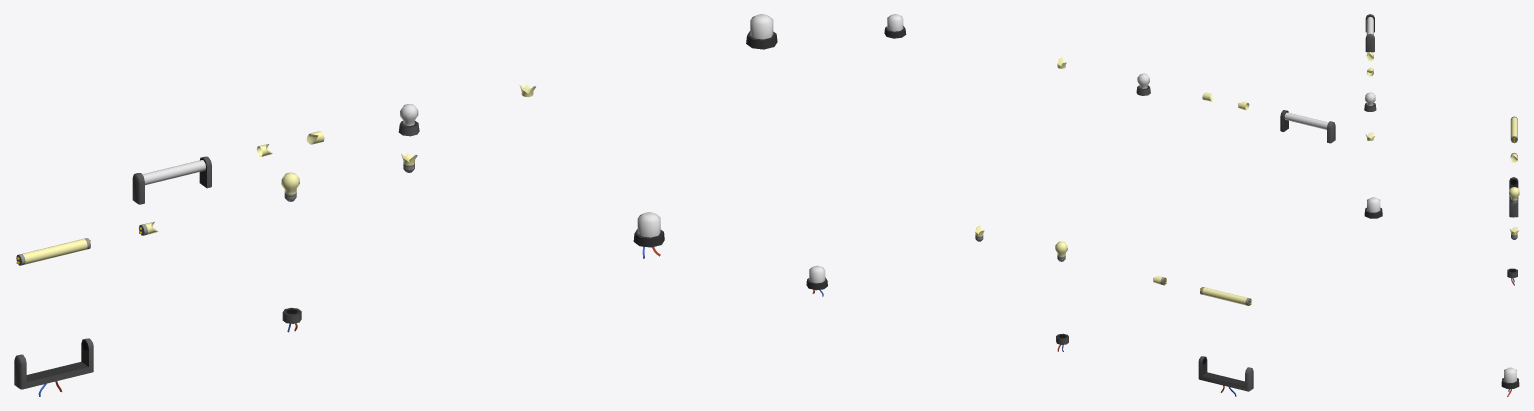
The model's file is lights.glb.
3 renders of one model, left to right at view 1: azimuth 30°, elevation 25°; view 2: azimuth 150°, elevation 25°; view 3: azimuth 270°, elevation 25°, orthographic. The views are drawn at different scales.
Parts seen in each view (by area): view 1: LightTubeFrame, EmergencyLightFrame, LightTube, EmergencyLightFixture, LightTubeAttached, LightTubeFixture; view 2: LightTubeFrame; view 3: EmergencyLightFrame, EmergencyLightFixture, LightTubeFrame, LightTubeFixture, LightTube, LightBulb.
Boxes of the visible parts, left/top/right/bottom form: LightTubeFrame: left=14, top=338, right=93, bottom=396; EmergencyLightFrame: left=633, top=212, right=664, bottom=258; LightTube: left=16, top=238, right=90, bottom=265; EmergencyLightFixture: left=746, top=14, right=777, bottom=49; LightTubeAttached: left=142, top=160, right=205, bottom=185; LightTubeFixture: left=132, top=156, right=211, bottom=204; LightTubeFrame: left=1198, top=356, right=1253, bottom=396; EmergencyLightFrame: left=1501, top=367, right=1519, bottom=396; EmergencyLightFixture: left=1364, top=197, right=1382, bottom=218; LightTubeFrame: left=1509, top=177, right=1518, bottom=217; LightTubeFixture: left=1365, top=14, right=1374, bottom=52; LightTube: left=1510, top=116, right=1517, bottom=143; LightBulb: left=1509, top=187, right=1519, bottom=204.
Size of the model in its own units: 5.42 by 2.61 by 1.87.
3 materials, 1 textured.
